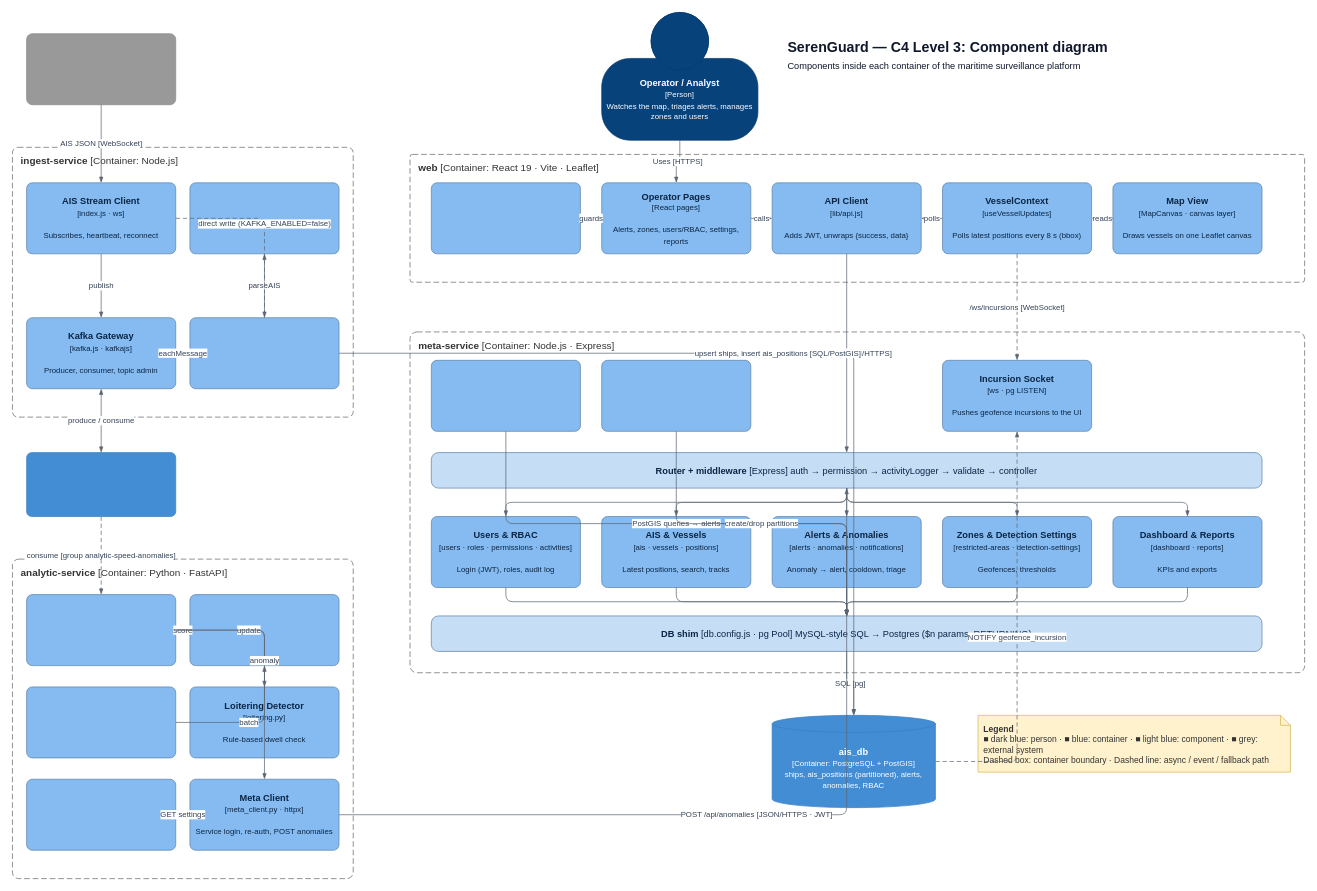
The diagram is 1317 pixels wide and 891 high, and some of its shapes have lost their labels. Here are the shapes that lost their labels. From the top down, the centre of each, then its label:
At (101,69): "aisstream.io [External system] Global AIS feed over WebSocket".
At (264,218): "AIS Parser [parser.js] PositionReport / ShipStaticData → row".
At (505,218): "Auth [AuthContext · ProtectedRoute] JWT, user, roles; route guards".
At (264,353): "Persistence Writer [insert.js] Ships, positions, geofence state, NOTIFY".
At (505,395): "Scheduled Detectors [node-cron] Geofence 30 s · dark vessel 5 min · STS 1 min".
At (676,395): "Partition Cron [partition-cron.js] ais_positions partitions, 2-day retention".
At (101,484): "Kafka [Container: Apache Kafka] topic ais.raw.messages".
At (101,630): "Speed Anomaly Consumer [kafka_consumer.py] Polls topic, parses, dispatches".
At (264,630): "Speed Model [speed_model.py · scikit-learn] p99 gate + IsolationForest, refit".
At (101,722): "Detection API [routes.py · FastAPI] Stats, batch CSV speed check".
At (101,814): "Settings Store [settings.py] Polls thresholds every SETTINGS_POLL_S".
